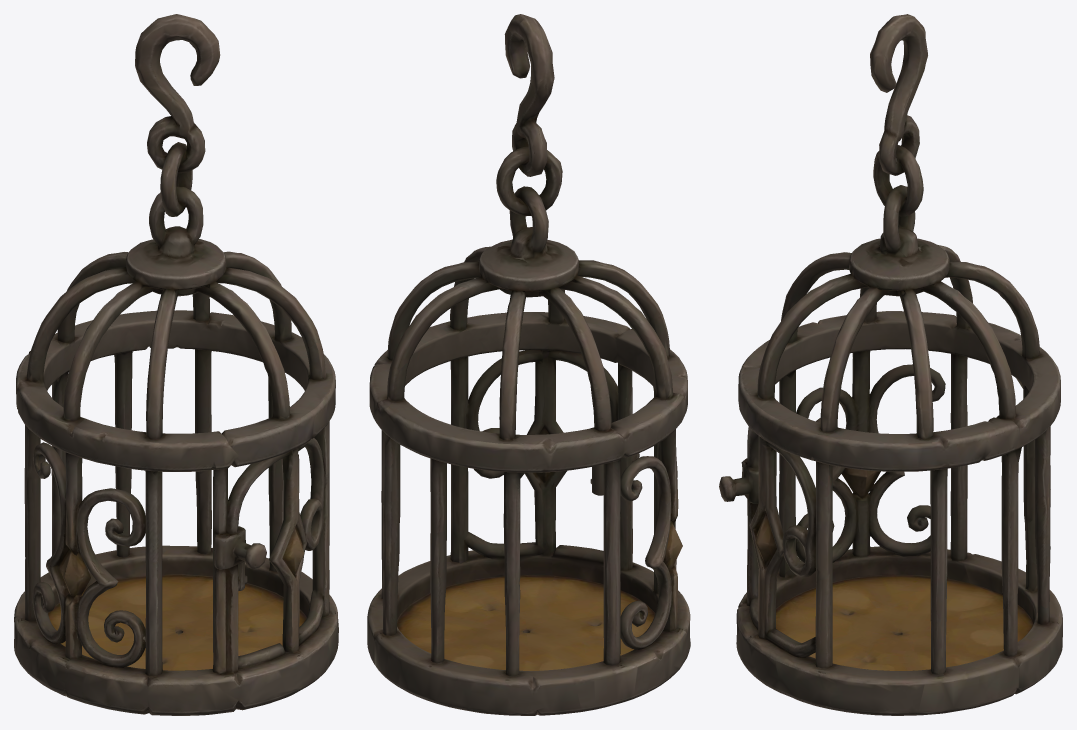
The model's file is trim_birdcage.glb.
The picture shows the model from 3 angles, left to right: view 1: azimuth 30°, elevation 25°; view 2: azimuth 150°, elevation 25°; view 3: azimuth 270°, elevation 25°; orthographic projection.
Visible parts, largest first — view 1: tripo_node_067ab7d8-fdd5-4963-b39d-8cf786bf3cfa; view 2: tripo_node_067ab7d8-fdd5-4963-b39d-8cf786bf3cfa; view 3: tripo_node_067ab7d8-fdd5-4963-b39d-8cf786bf3cfa.
Boxes of the visible parts, box(x1,y1,x2,y2) form: tripo_node_067ab7d8-fdd5-4963-b39d-8cf786bf3cfa: box(14, 14, 338, 715); tripo_node_067ab7d8-fdd5-4963-b39d-8cf786bf3cfa: box(367, 14, 690, 715); tripo_node_067ab7d8-fdd5-4963-b39d-8cf786bf3cfa: box(719, 14, 1062, 715).
Bounding box in the file's own units: 0.453 × 0.9781 × 0.4813.
Materials: 1 (1 with a texture image).
